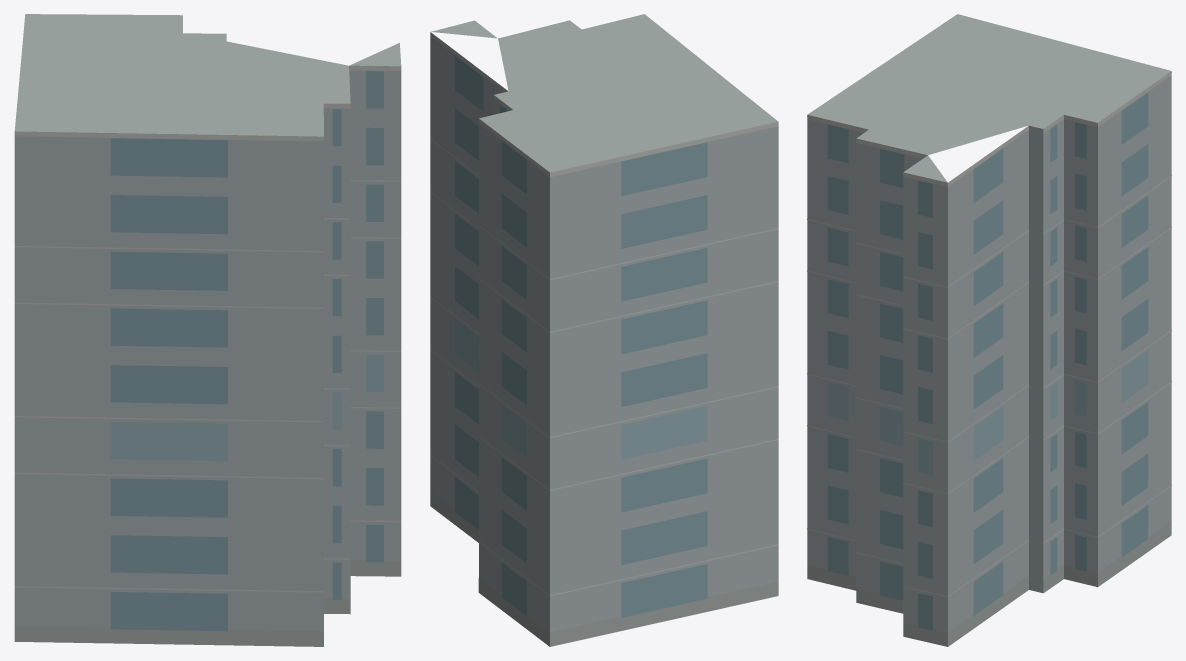
Rendered from survey-upis-32913718.glb.
3 views of the same model, side by side, from view 1: azimuth 30°, elevation 25°; view 2: azimuth 150°, elevation 25°; view 3: azimuth 270°, elevation 25° (orthographic). The views are drawn at different scales.
Visible parts, largest first — view 1: survey-upis-32913718.tmp; view 2: survey-upis-32913718.tmp; view 3: survey-upis-32913718.tmp.
Boxes of the visible parts, x1,y1,x2,y2 form: survey-upis-32913718.tmp: [14, 14, 401, 646]; survey-upis-32913718.tmp: [430, 14, 778, 646]; survey-upis-32913718.tmp: [807, 14, 1171, 646].
Bounding box in the file's own units: 19.89 × 25.5 × 18.16.
